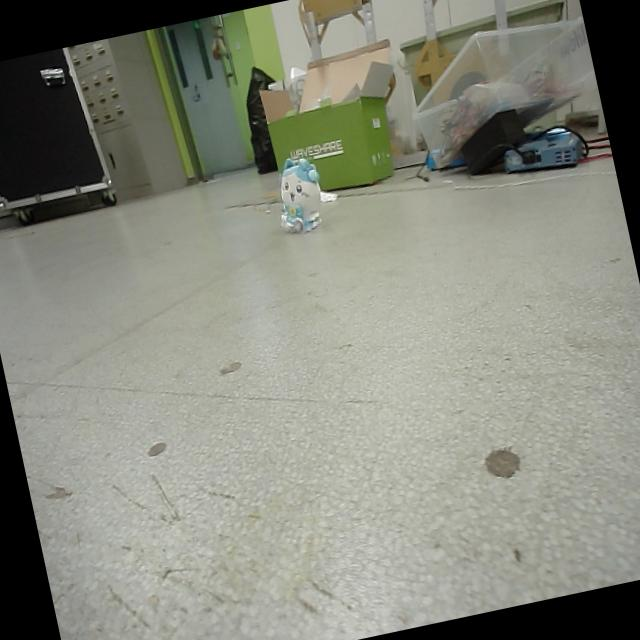xiaoba: (269, 152, 332, 237)
